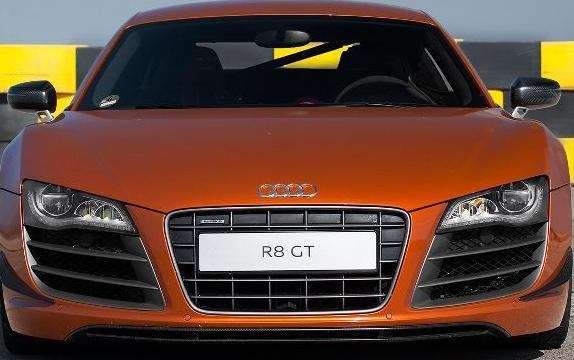front_view: (0, 126, 574, 339)
headlight: (432, 170, 558, 233)
